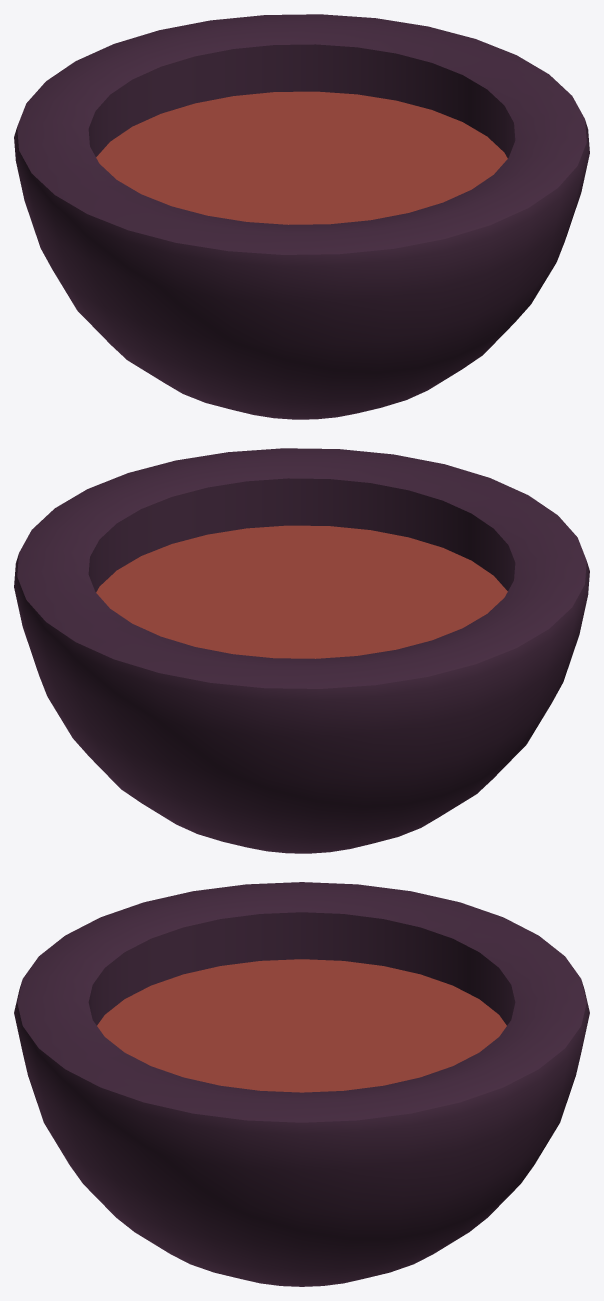
Rendered from Pot_9.fbx.
The picture shows the model from 3 angles, top to bottom: view 1: azimuth 30°, elevation 25°; view 2: azimuth 150°, elevation 25°; view 3: azimuth 270°, elevation 25°; orthographic projection.
Visible parts, largest first — view 1: Sphere.001; view 2: Sphere.001; view 3: Sphere.001.
Boxes of the visible parts, bbox=[...] form: Sphere.001: bbox=[14, 14, 589, 419]; Sphere.001: bbox=[14, 448, 589, 853]; Sphere.001: bbox=[14, 882, 589, 1286].
Bounding box in the file's own units: 29.36 × 14.88 × 29.36.
1 material, 1 textured.
